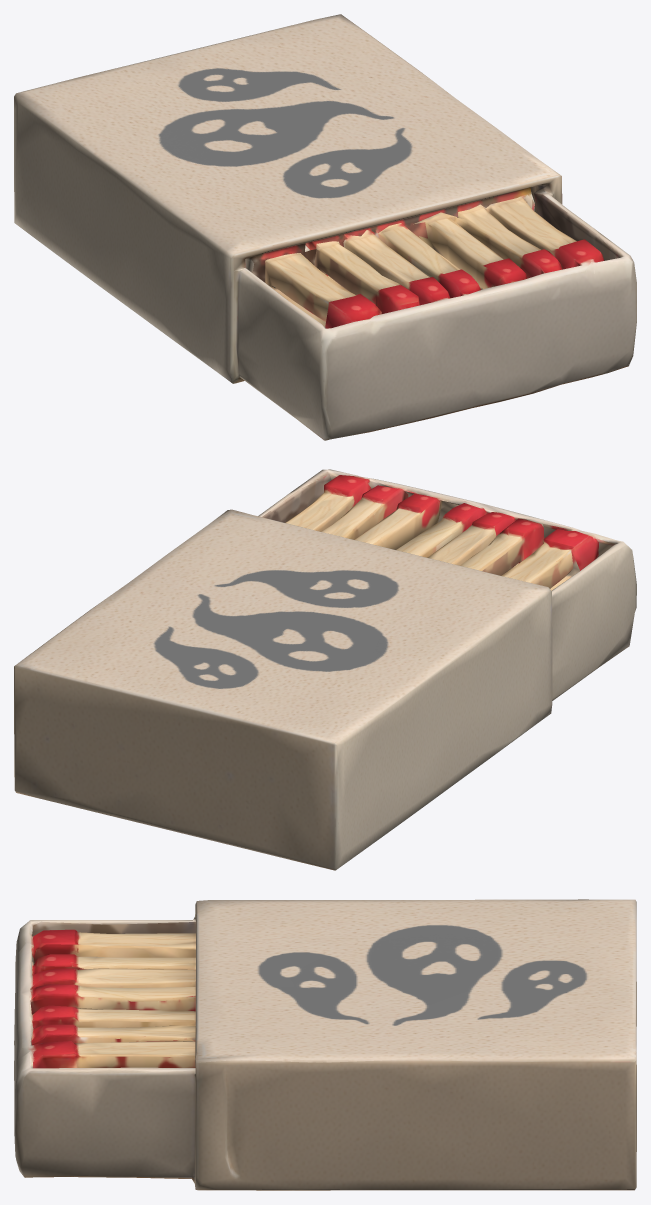
Rendered from Matchbox.fbx.
3 views of the same model, one above another, from view 1: azimuth 30°, elevation 25°; view 2: azimuth 150°, elevation 25°; view 3: azimuth 270°, elevation 25° (orthographic). The views are drawn at different scales.
Visible parts, largest first — view 1: material_0; view 2: material_0; view 3: material_0.
Part boxes in pixels (x1,y1,x2,y2): material_0: [14, 14, 636, 440]; material_0: [14, 469, 636, 870]; material_0: [14, 899, 636, 1190].
Size of the model in its own units: 62.11 by 23.71 by 100.
Materials: 1 (1 with a texture image).
